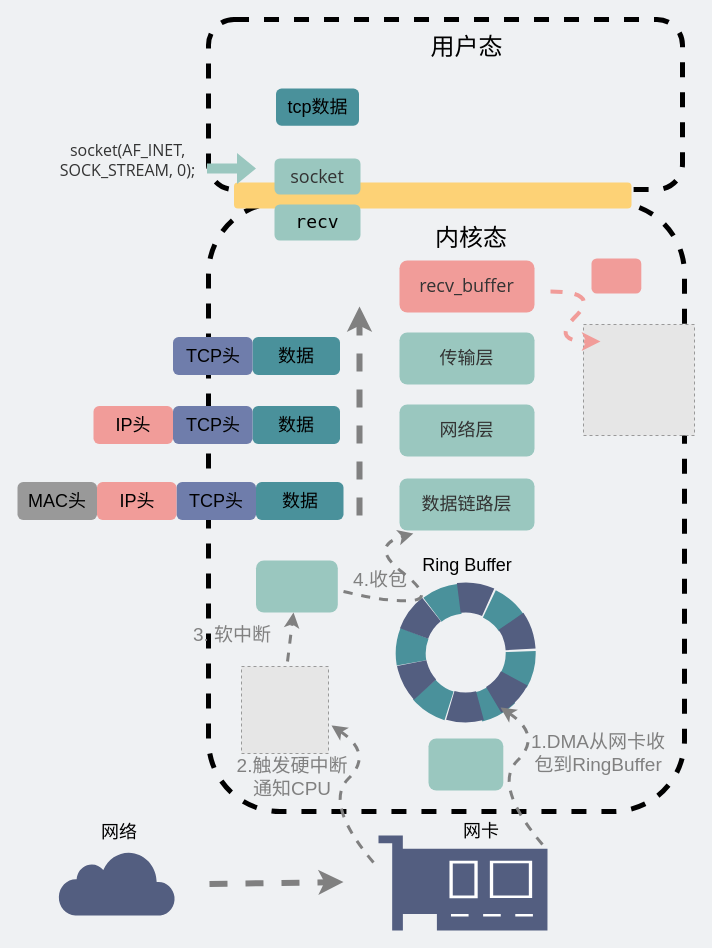
The diagram is 712 pixels wide and 948 high, and some of its shapes have lost their labels. Grey dashed boxes stand in for pictures. The shapes that lost their labels are listed below. From the top down, each one's box as (x1, y1, x2, y2) in pixels, then its label:
(234, 182, 631, 208): socket接口
(591, 258, 641, 293): data
(256, 560, 337, 612): ksoftirqd
(428, 738, 503, 790): DMA
